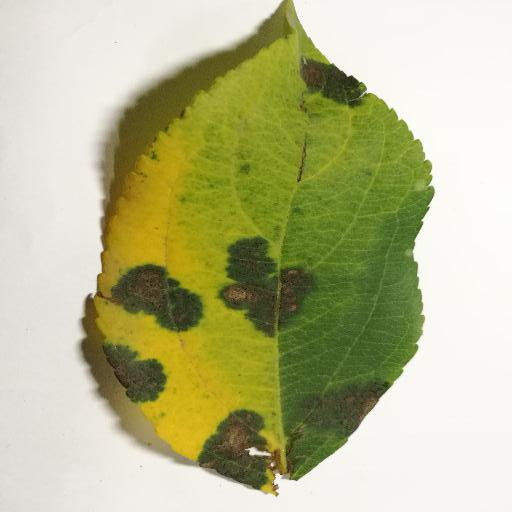Brown_Spot: (108, 262, 199, 328), (202, 409, 273, 489), (222, 273, 308, 322), (296, 57, 374, 108), (106, 337, 165, 396), (318, 380, 373, 430)
